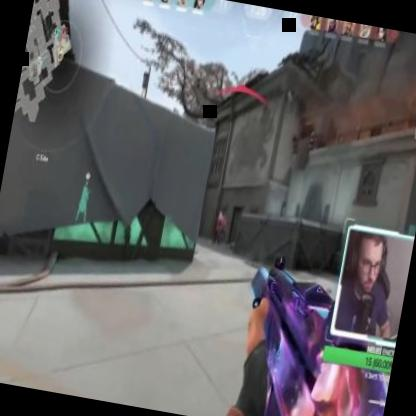enemy: (209, 208, 226, 248)
enemy_head: (218, 210, 222, 216)
